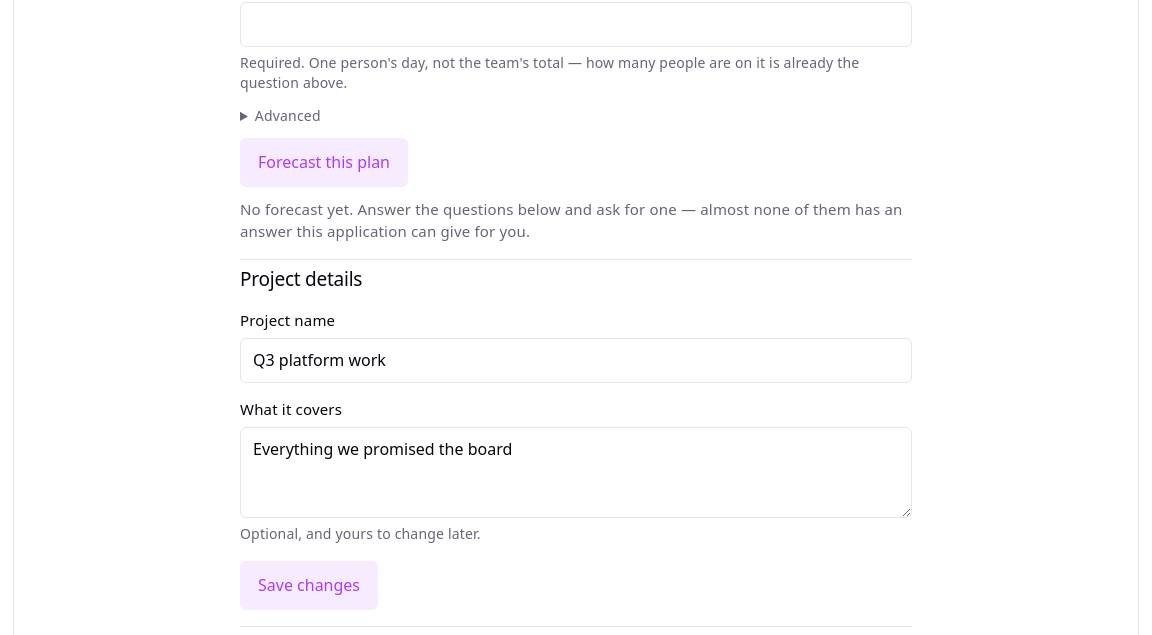
it: ProjectPage › renames it and takes what the server said back
(page scrolled)
Replace the text in the field labelled "Project name" with "Q4 platform work" at (576, 360), box x1=240 y1=338 x2=912 y2=383
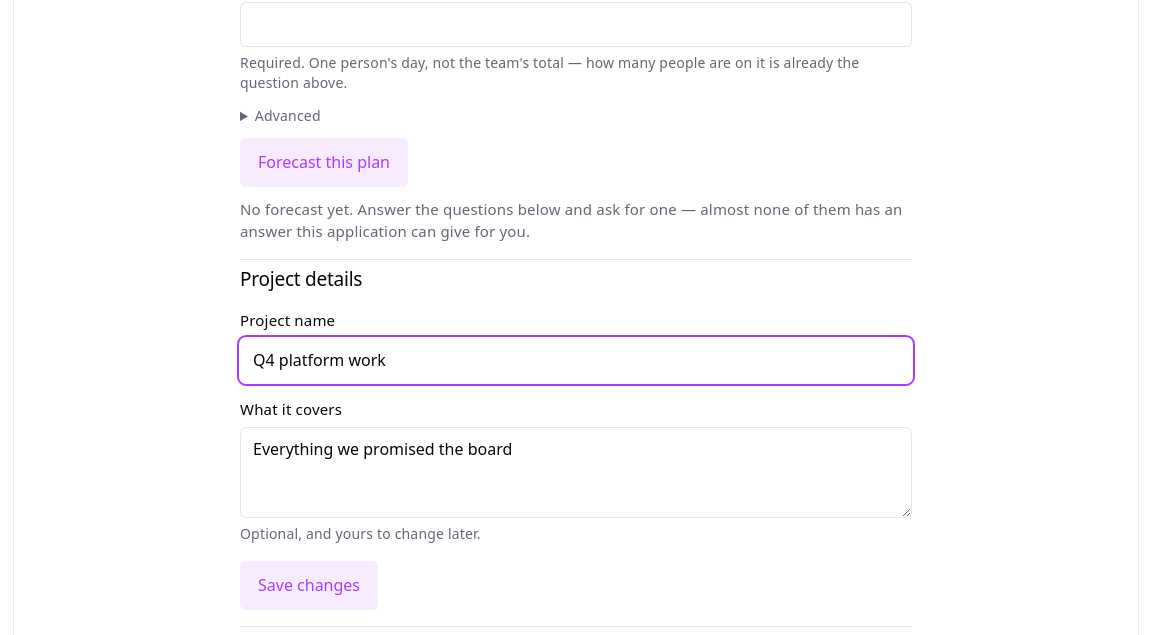
Click the button "Save changes" at (309, 585), box x1=240 y1=560 x2=378 y2=610
(page scrolled)
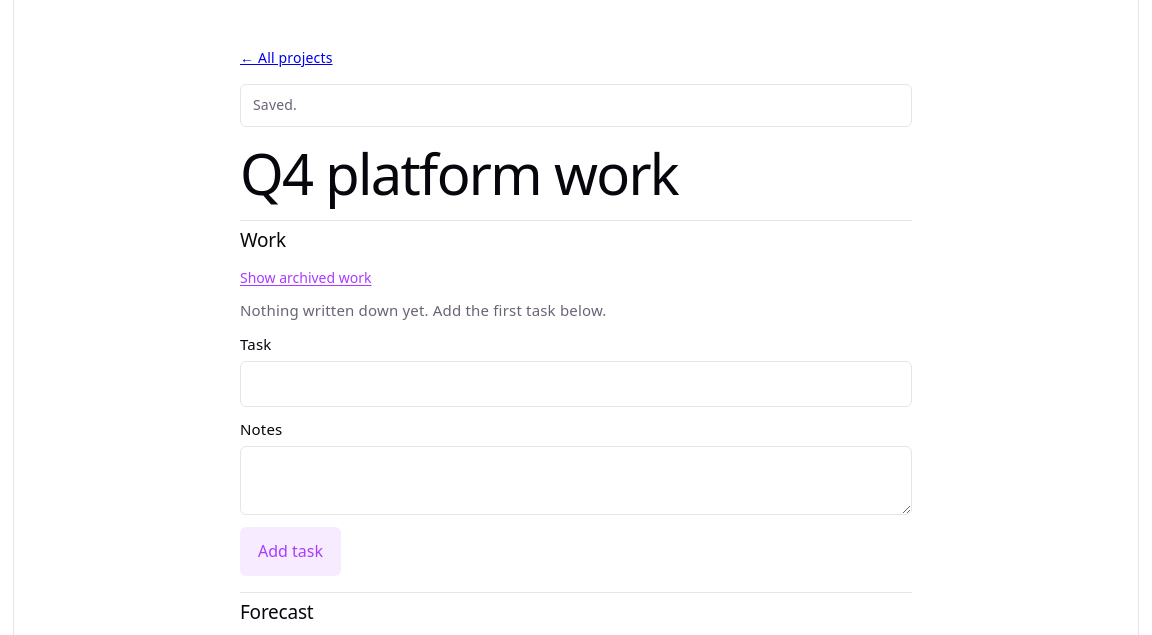
Expected: the heading "Q4 platform work" is shown, x1=240 y1=135 x2=678 y2=211
